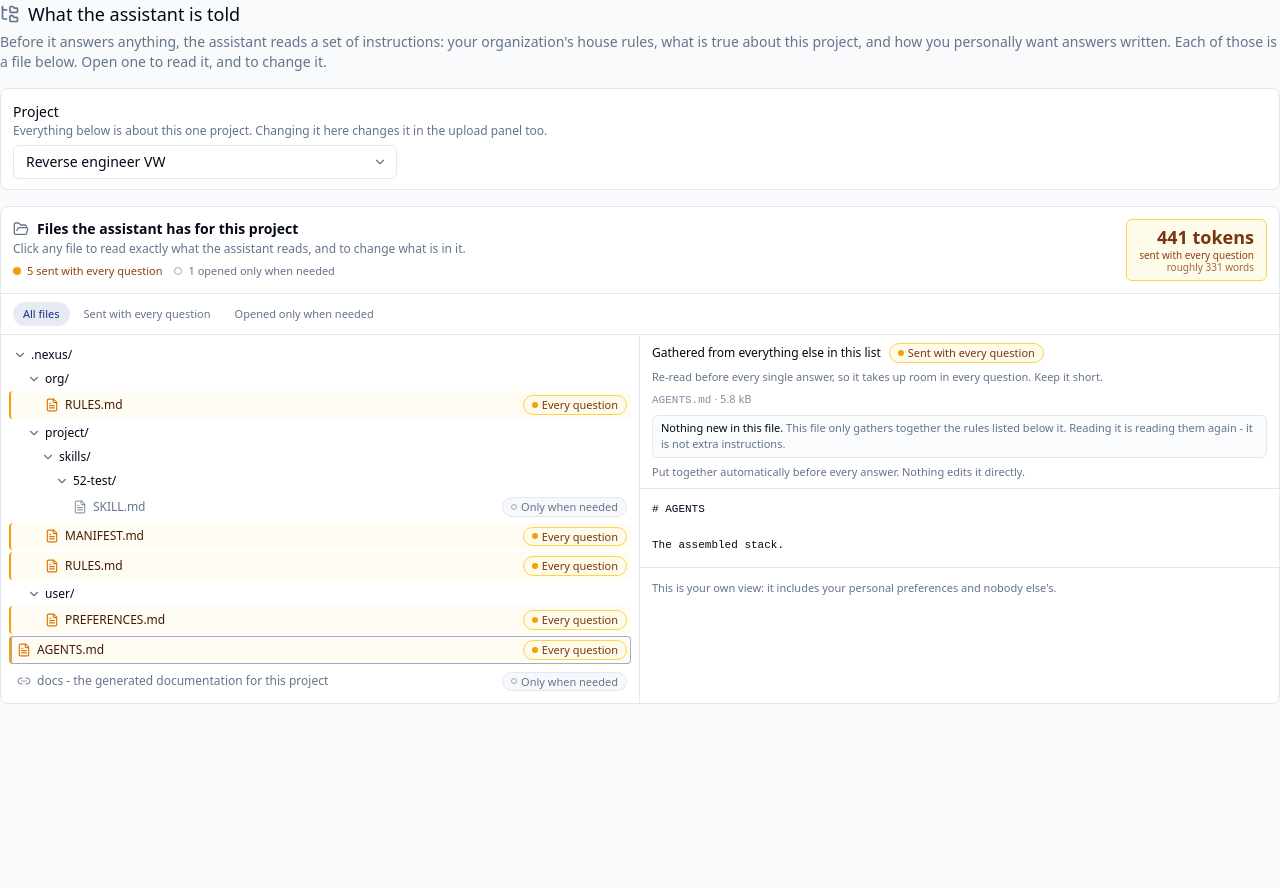
ProjectStructurePanel › puts the preferences form in the pane that shows the preferences file
The width and height of the screenshot is (1280, 888).
Click the button "PREFERENCES.md Every question" at (115, 619), box [9,606,631,634]
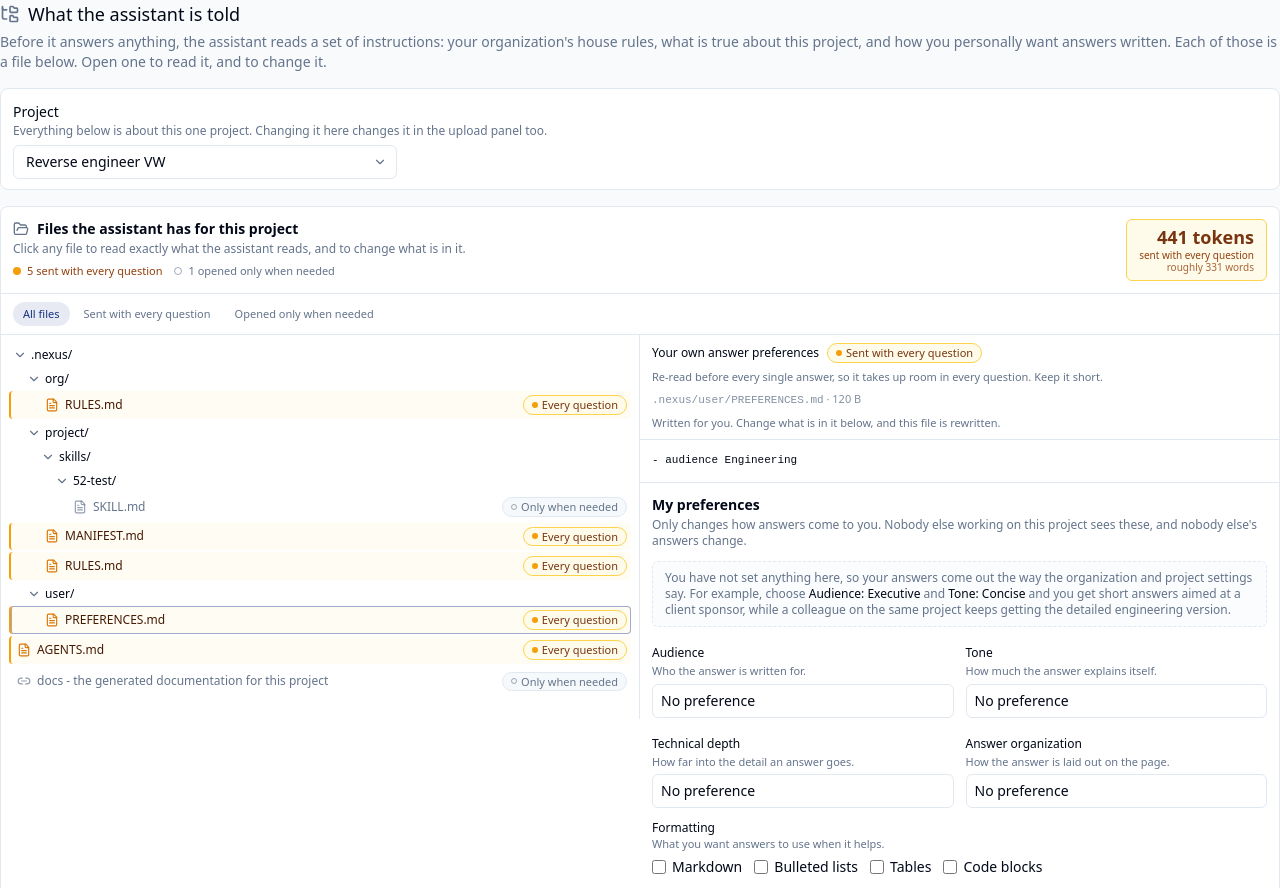
Expected: the heading "My preferences" is shown, [652,495,760,514]
Expected: the text "Only changes how answers come to you" is shown, [652,516,1257,549]
Expected: the dropdown labelled "Audience" is shown, [652,684,954,718]
